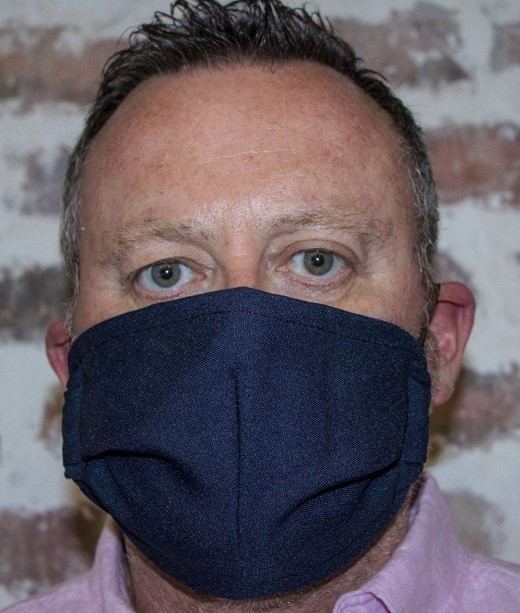face_with_mask: (49, 13, 476, 600)
